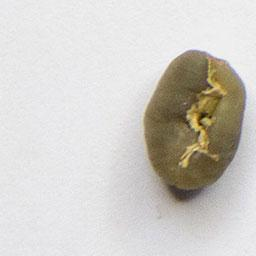peaberry: (138, 46, 249, 196)
